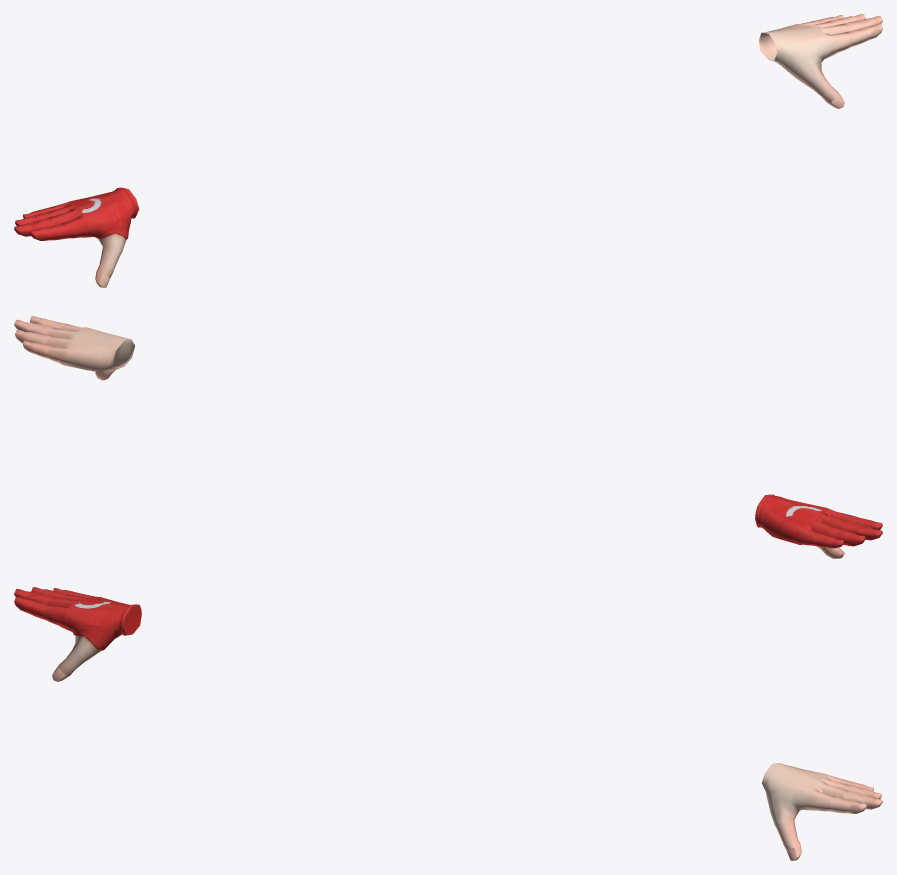
File: p0_glv1001_00_glv00.gltf
The picture shows the model from 3 angles, top to bottom: view 1: azimuth 30°, elevation 25°; view 2: azimuth 150°, elevation 25°; view 3: azimuth 330°, elevation 25°; orthographic projection.
Parts seen in each view (by area): view 1: glv00_glove_mesh_shape:glove_skin, glv00_glove_mesh_shape:glove; view 2: glv00_glove_mesh_shape:glove_skin, glv00_glove_mesh_shape:glove; view 3: glv00_glove_mesh_shape:glove_skin, glv00_glove_mesh_shape:glove.
Part boxes in pixels (x1,y1,x2,y2): glv00_glove_mesh_shape:glove_skin: [95, 14, 882, 287]; glv00_glove_mesh_shape:glove: [14, 187, 139, 240]; glv00_glove_mesh_shape:glove_skin: [14, 316, 844, 558]; glv00_glove_mesh_shape:glove: [755, 494, 882, 548]; glv00_glove_mesh_shape:glove_skin: [52, 636, 882, 860]; glv00_glove_mesh_shape:glove: [14, 587, 141, 650].
Size of what is drawn, in the model's own units: 1.36 by 0.1039 by 0.1177.
Materials: 2 (2 with a texture image).
